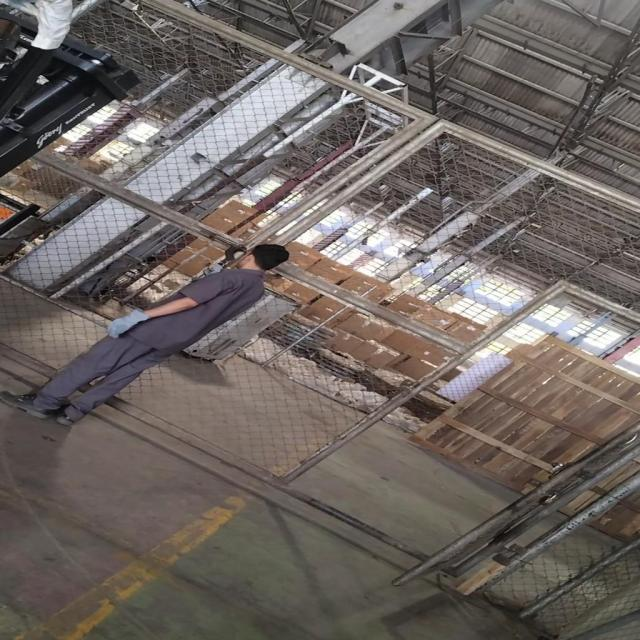Gloves-Detection: (95, 308, 146, 338)
